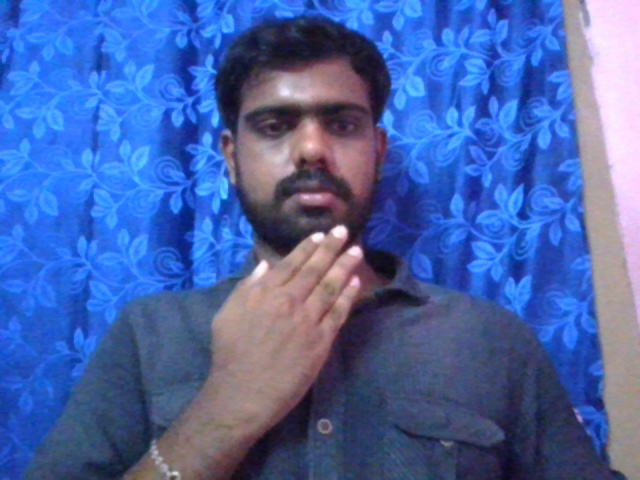Thanks: (201, 221, 364, 395)
